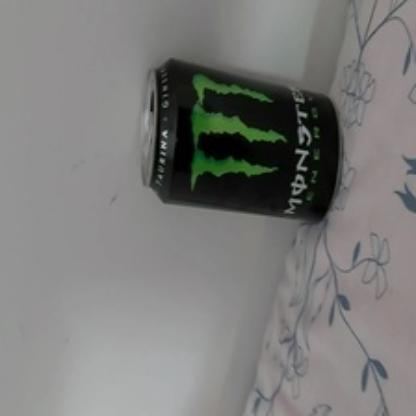Can: (135, 57, 342, 224)
